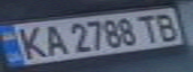2: (63, 19, 90, 53)
7: (84, 18, 106, 52)
8: (115, 15, 139, 47), (103, 16, 124, 48)
A: (33, 21, 69, 56)
B: (151, 10, 184, 42)
K: (9, 24, 51, 61)
T: (133, 11, 163, 43)
